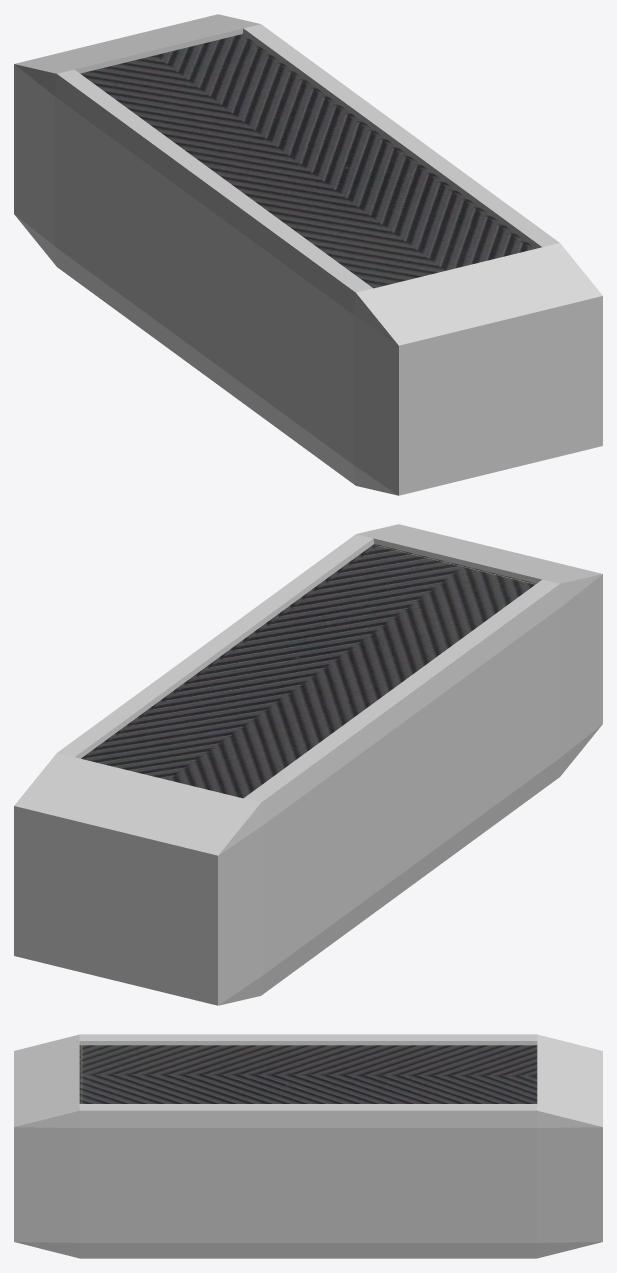
File: Conveyor.fbx
The picture shows the model from 3 angles, top to bottom: view 1: azimuth 30°, elevation 25°; view 2: azimuth 150°, elevation 25°; view 3: azimuth 270°, elevation 25°; orthographic projection. The views are drawn at different scales.
Parts seen in each view (by area): view 1: Conveyor, Belt; view 2: Conveyor, Belt; view 3: Conveyor, Belt.
Part boxes in pixels (x1=…): Conveyor: x1=14, y1=14, x2=602, y2=495; Belt: x1=80, y1=34, x2=535, y2=288; Conveyor: x1=14, y1=524, x2=602, y2=1005; Belt: x1=81, y1=544, x2=536, y2=798; Conveyor: x1=14, y1=1034, x2=602, y2=1258; Belt: x1=79, y1=1045, x2=537, y2=1103.
Bounding box in the file's own units: 227 × 200 × 722.
Materials: 2 (1 with a texture image).
